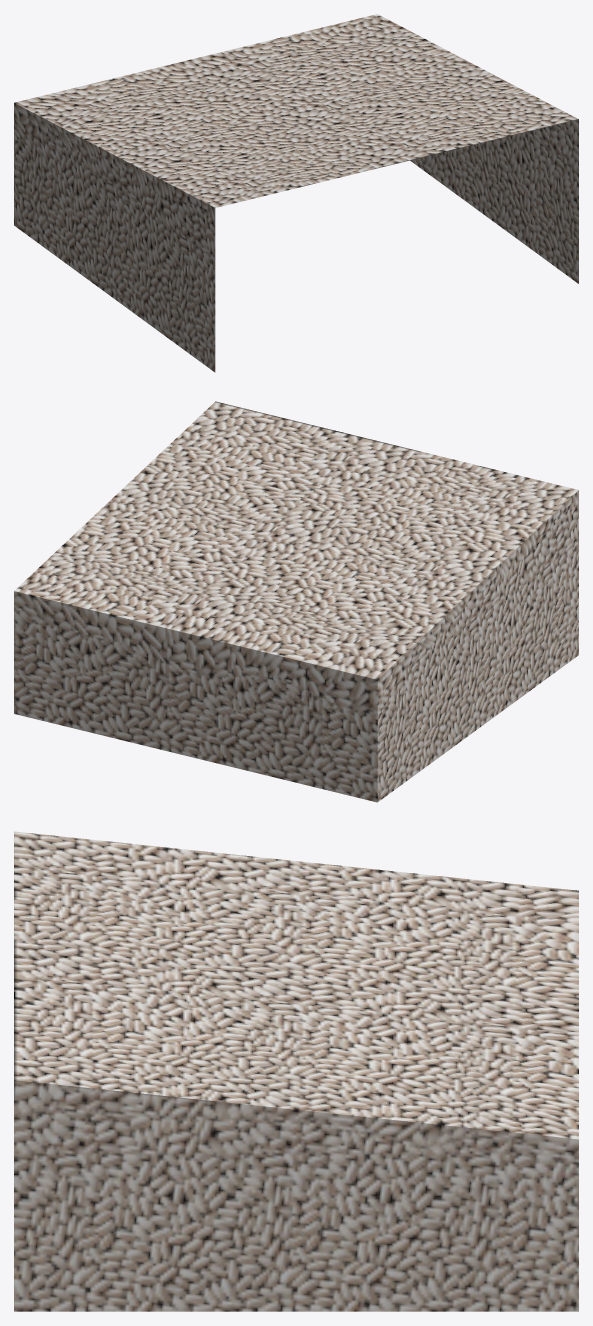
File: SM_配餐区_米_03.fbx
3 renders of one model, top to bottom at view 1: azimuth 30°, elevation 25°; view 2: azimuth 150°, elevation 25°; view 3: azimuth 270°, elevation 25°, orthographic. The views are drawn at different scales.
Visible parts, largest first — view 1: SM_配餐区_米_03; view 2: SM_配餐区_米_03; view 3: SM_配餐区_米_03.
Boxes of the visible parts, x1=… form: SM_配餐区_米_03: x1=14, y1=14, x2=578, y2=372; SM_配餐区_米_03: x1=14, y1=401, x2=578, y2=802; SM_配餐区_米_03: x1=14, y1=831, x2=578, y2=1311.
Bounding box in the file's own units: 287 × 124 × 275.
